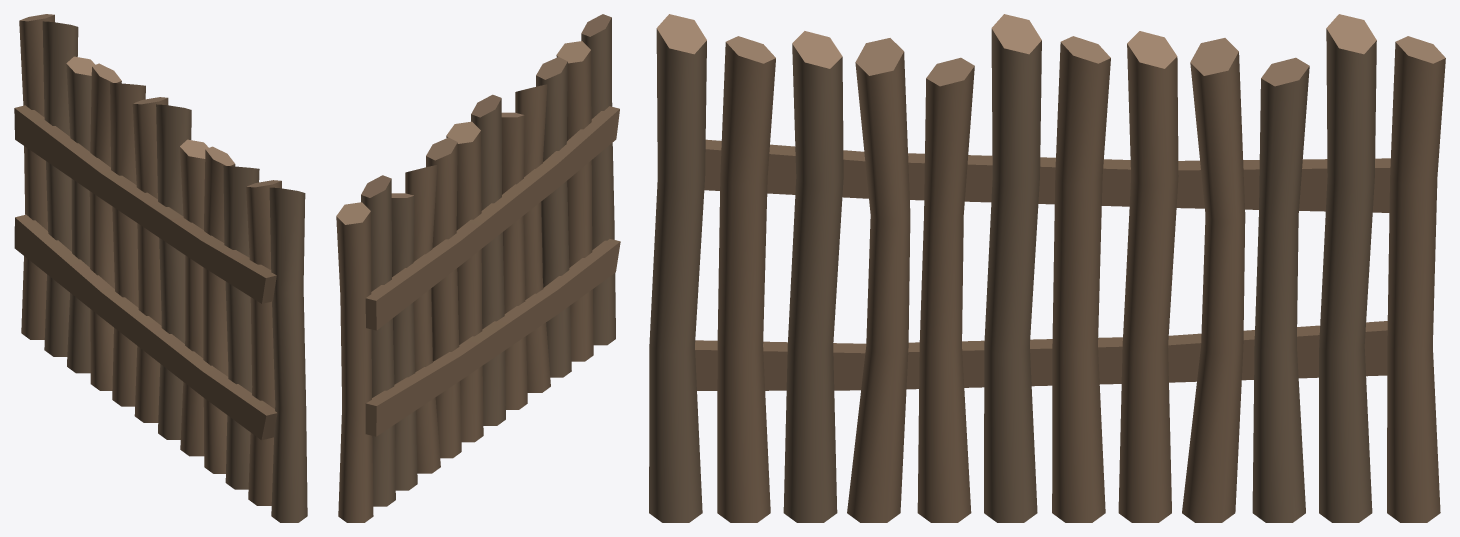
File: P_Fence_Gate_01_LD.fbx
The picture shows the model from 3 angles, left to right: view 1: azimuth 30°, elevation 25°; view 2: azimuth 150°, elevation 25°; view 3: azimuth 270°, elevation 25°; orthographic projection. The views are drawn at different scales.
Visible parts, largest first — view 1: P_Fence_Gate_01; view 2: P_Fence_Gate_01; view 3: P_Fence_Gate_01.
Boxes of the visible parts, left/top/right/bottom form: P_Fence_Gate_01: left=14, top=14, right=307, bottom=522; P_Fence_Gate_01: left=336, top=14, right=620, bottom=522; P_Fence_Gate_01: left=649, top=14, right=1445, bottom=522.
Size of the model in its own units: 13.09 by 113 by 167.
Materials: 1 (1 with a texture image).
